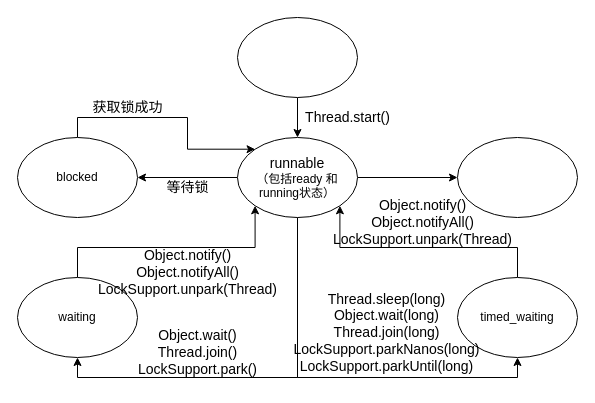
Image size: 595x403. Some labels were removed from this diagram. The shapes that lost their labels are listed below. From the top down, each one's centre as x and y in pixels, then its label:
(297,57): new
(517,177): terminated
